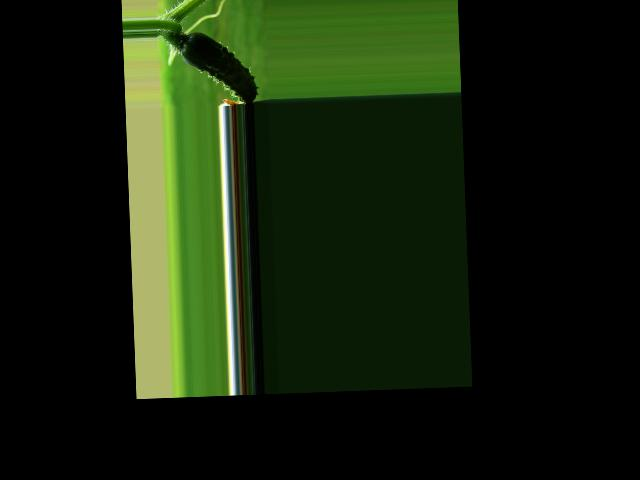cucumber: (180, 28, 258, 105)
